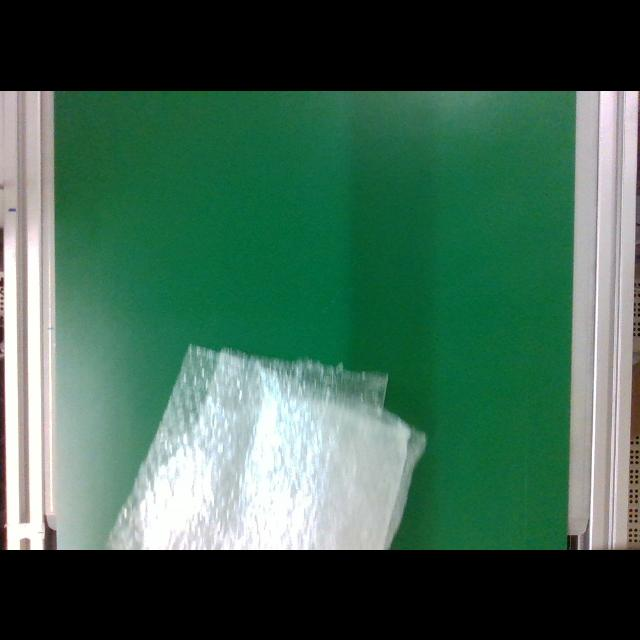scrap_plastic: (105, 342, 428, 546)
